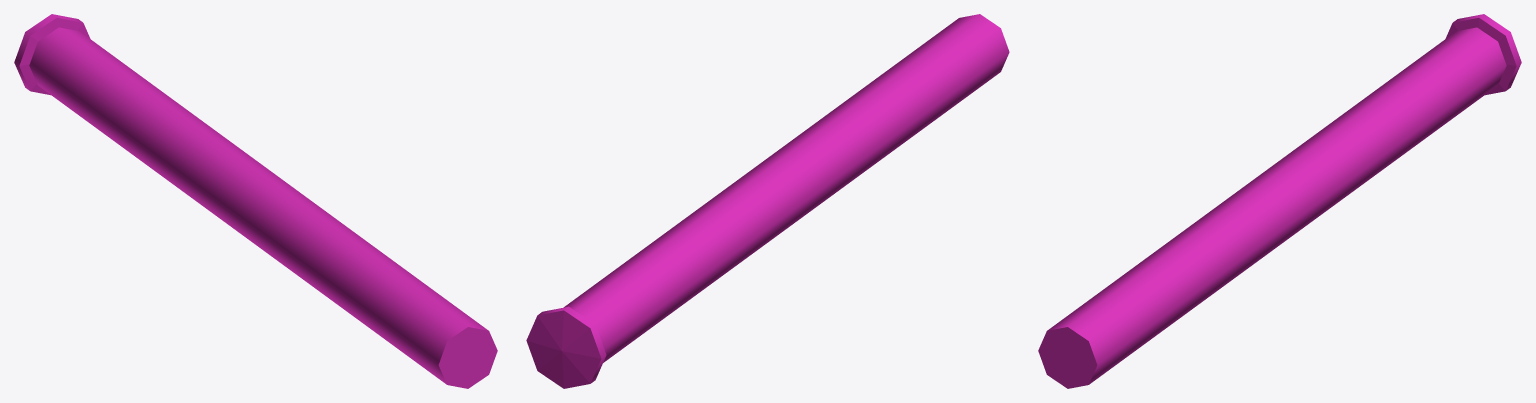
Rendered from Pipe_05_Lod1.fbx.
The picture shows the model from 3 angles, left to right: view 1: azimuth 30°, elevation 25°; view 2: azimuth 150°, elevation 25°; view 3: azimuth 330°, elevation 25°; orthographic projection.
Visible parts, largest first — view 1: Pipe_05_Lod1; view 2: Pipe_05_Lod1; view 3: Pipe_05_Lod1.
Boxes of the visible parts, x1,y1,x2,y2 form: Pipe_05_Lod1: [14, 14, 497, 388]; Pipe_05_Lod1: [526, 14, 1009, 388]; Pipe_05_Lod1: [1038, 14, 1521, 388].
Size of the model in its own units: 313 by 313 by 3016.
